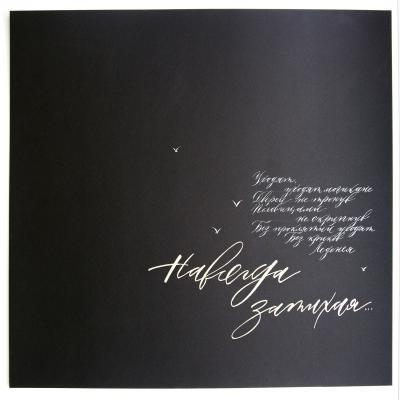graphics: (8, 9, 394, 389)
